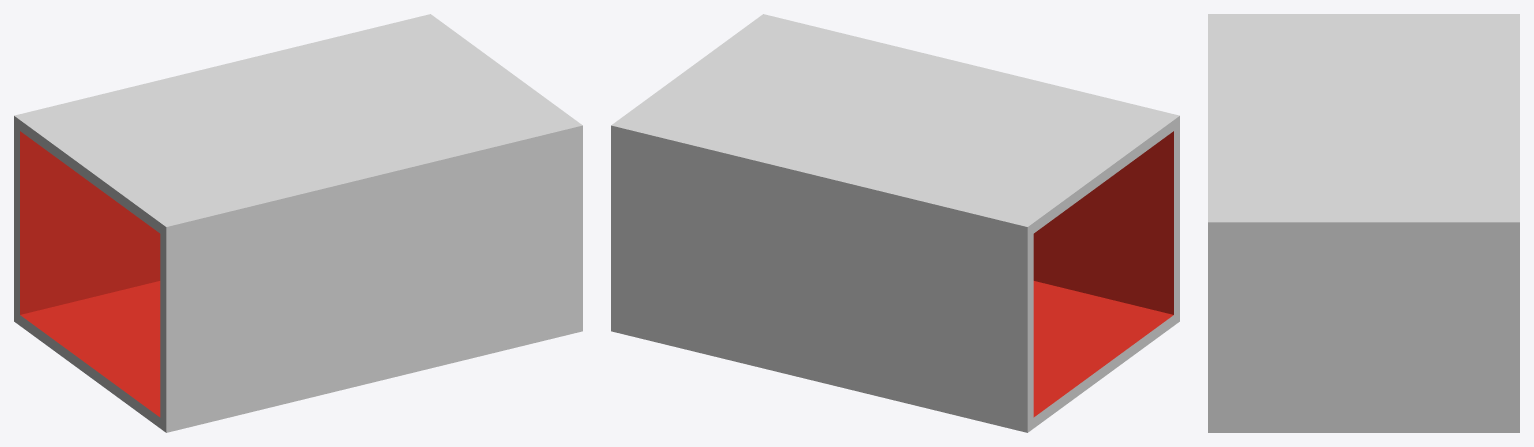
The model's file is Salle1.fbx.
3 views of the same model, side by side, from view 1: azimuth 30°, elevation 25°; view 2: azimuth 150°, elevation 25°; view 3: azimuth 270°, elevation 25° (orthographic). The views are drawn at different scales.
Parts seen in each view (by area): view 1: Cube; view 2: Cube; view 3: Cube.
Part boxes in pixels (bbox=[...]): Cube: bbox=[14, 14, 582, 432]; Cube: bbox=[611, 14, 1179, 432]; Cube: bbox=[1208, 14, 1519, 432].
Bounding box in the file's own units: 3169 × 1496 × 2007.
